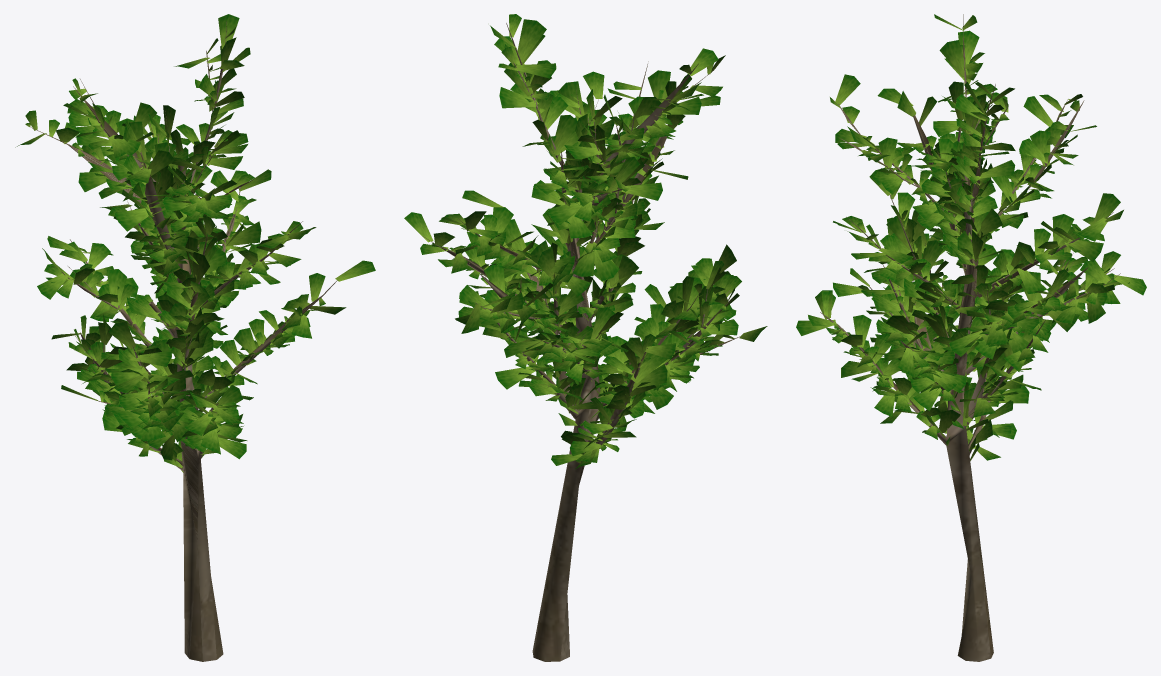
3 renders of one model, left to right at view 1: azimuth 30°, elevation 25°; view 2: azimuth 150°, elevation 25°; view 3: azimuth 270°, elevation 25°, orthographic. The views are drawn at different scales.
Parts seen in each view (by area): view 1: m1, m0; view 2: m1, m0; view 3: m1, m0.
Part boxes in pixels (x1=…): m1: x1=15, y1=14, x2=375, y2=472; m0: x1=29, y1=21, x2=337, y2=661; m1: x1=404, y1=14, x2=767, y2=469; m0: x1=422, y1=23, x2=740, y2=661; m1: x1=796, y1=14, x2=1146, y2=460; m0: x1=820, y1=14, x2=1120, y2=661.
Size of the model in its own units: 5.09 by 10 by 5.41.
2 materials, 2 textured.
